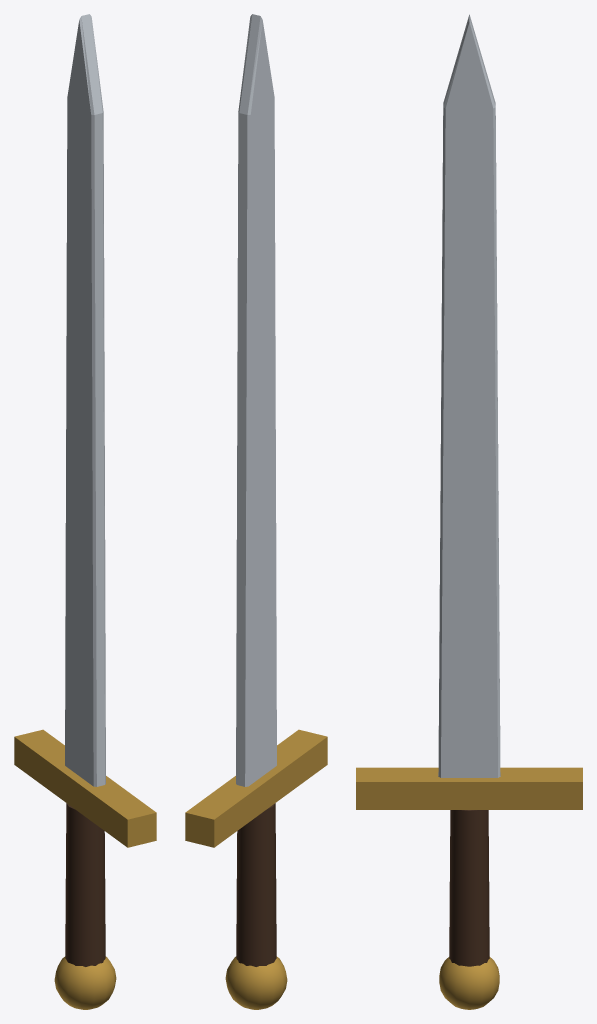
Rendered from sword.glb.
3 renders of one model, left to right at view 1: azimuth 30°, elevation 25°; view 2: azimuth 150°, elevation 25°; view 3: azimuth 270°, elevation 25°, orthographic.
Parts seen in each view (by area): view 1: sword-blade, sword-guard, sword-handle, sword-pommel; view 2: sword-blade, sword-guard, sword-handle, sword-pommel; view 3: sword-blade, sword-guard, sword-handle, sword-pommel.
Part boxes in pixels (x1,y1,x2,y2): sword-blade: [65, 14, 105, 786]; sword-guard: [14, 729, 156, 847]; sword-handle: [65, 803, 105, 966]; sword-pommel: [54, 956, 116, 1009]; sword-blade: [236, 14, 276, 786]; sword-guard: [185, 729, 327, 847]; sword-handle: [236, 803, 276, 966]; sword-pommel: [225, 956, 287, 1009]; sword-blade: [438, 14, 500, 777]; sword-guard: [356, 767, 582, 809]; sword-handle: [449, 810, 489, 966]; sword-pommel: [439, 957, 499, 1009].
Size of the model in its own units: 0.052 by 0.9168 by 0.19.
